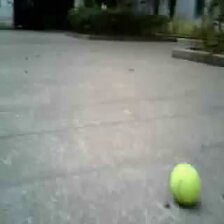tennis: (169, 164, 200, 205)
